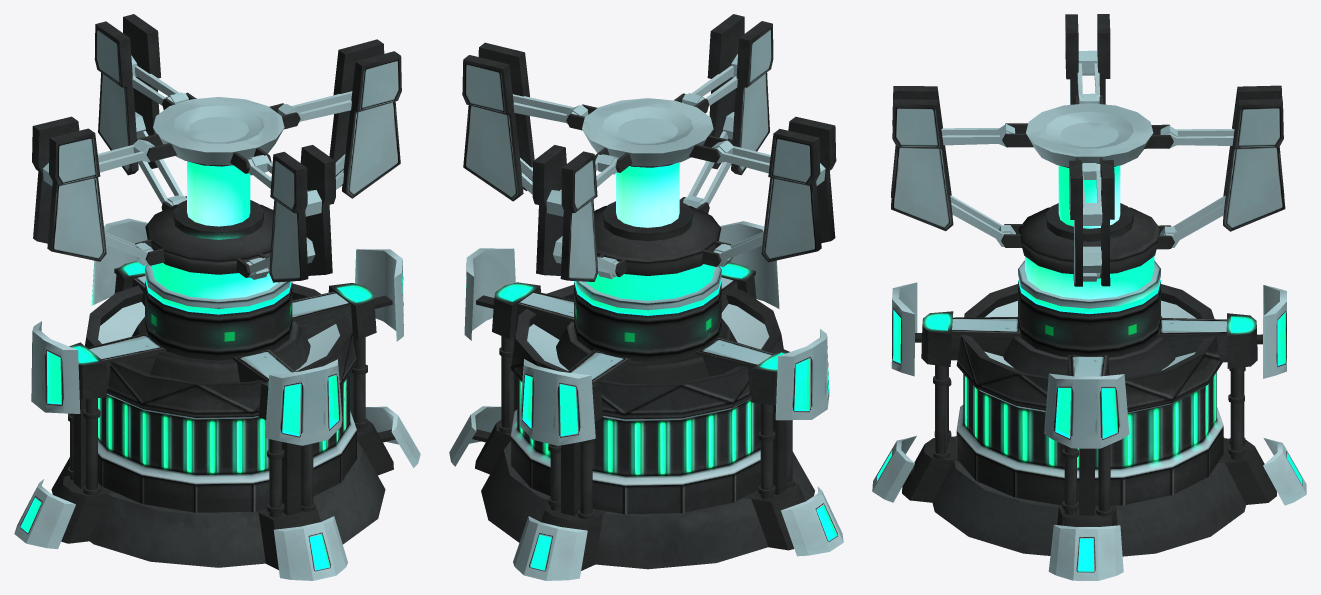
Rendered from shield.glb.
3 views of the same model, side by side, from view 1: azimuth 30°, elevation 25°; view 2: azimuth 150°, elevation 25°; view 3: azimuth 270°, elevation 25° (orthographic). The views are drawn at different scales.
Parts seen in each view (by area): view 1: shield; view 2: shield; view 3: shield.
Boxes of the visible parts, x1,y1,x2,y2 form: shield: [14, 14, 420, 580]; shield: [449, 14, 843, 580]; shield: [872, 14, 1306, 580].
Bounding box in the file's own units: 0.9999 × 1 × 0.9994.
1 material, 1 textured.
